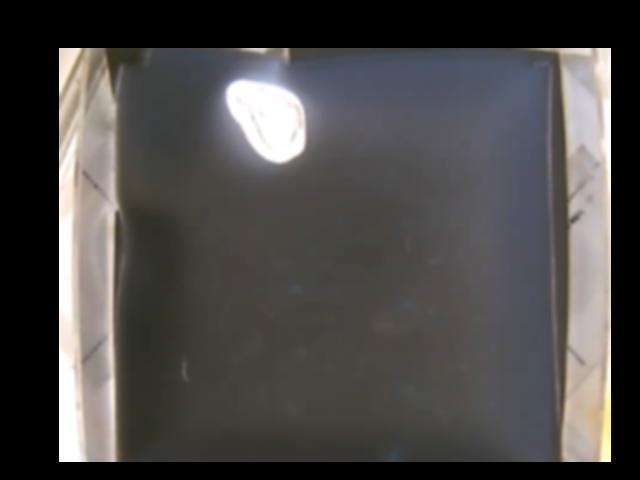Pebble: (226, 78, 305, 162)
